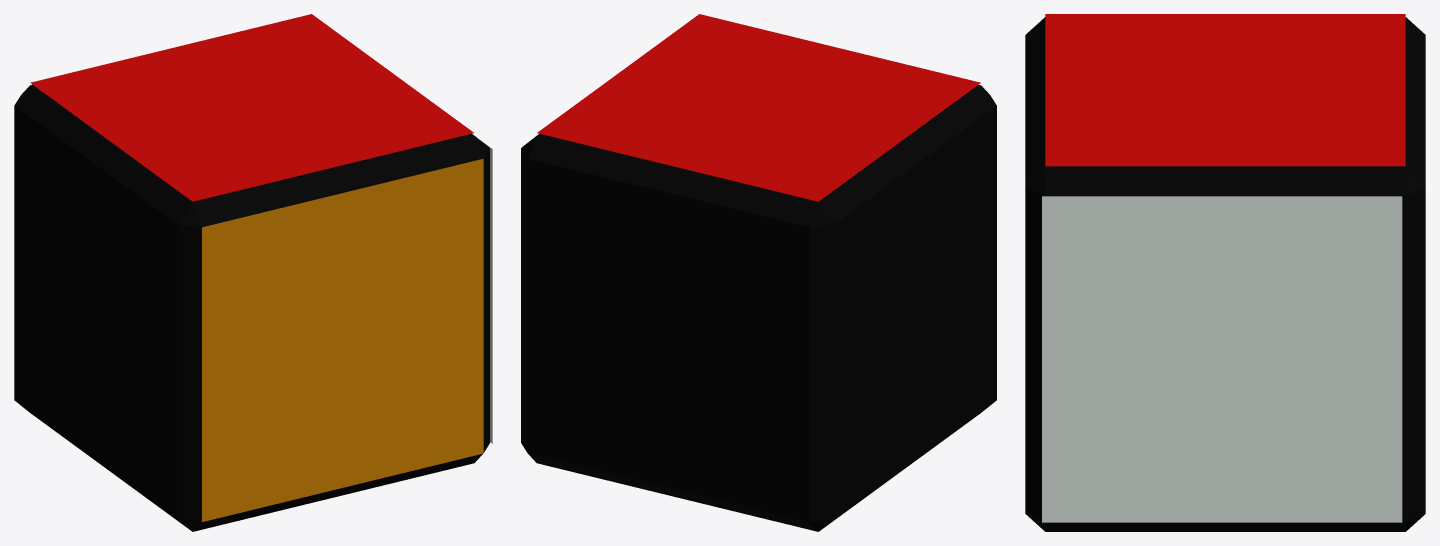
The model's file is rubic3.obj.
The picture shows the model from 3 angles, left to right: view 1: azimuth 30°, elevation 25°; view 2: azimuth 150°, elevation 25°; view 3: azimuth 270°, elevation 25°; orthographic projection. The views are drawn at different scales.
Visible parts, largest first — view 1: Cube.002_Cube.001; view 2: Cube.002_Cube.001; view 3: Cube.002_Cube.001.
Part boxes in pixels (x1,y1,x2,y2): Cube.002_Cube.001: (14, 14, 492, 531); Cube.002_Cube.001: (521, 14, 996, 531); Cube.002_Cube.001: (1025, 14, 1425, 531).
Bounding box in the file's own units: 2.01 × 2.02 × 2.
